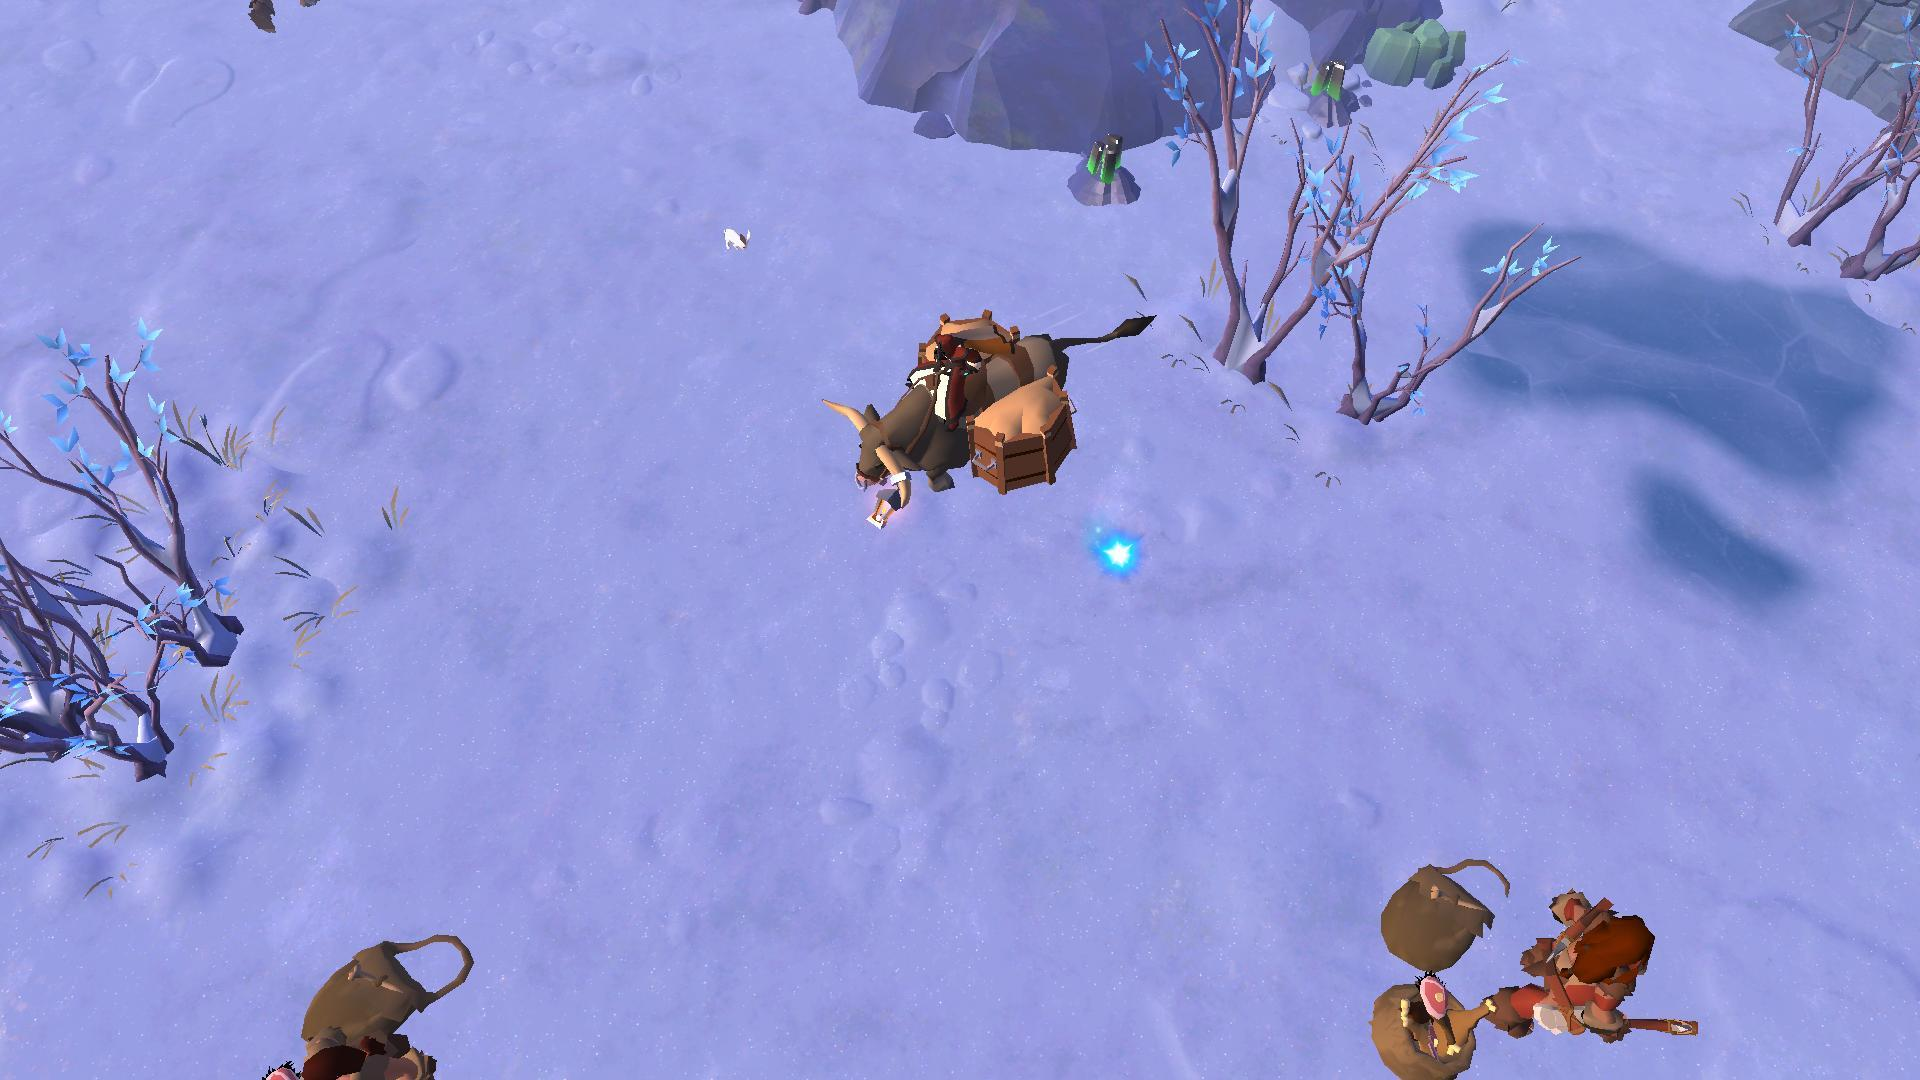enemy_factionKeeper: (1503, 898, 1697, 1051)
ore_t3: (1073, 129, 1129, 194), (1302, 53, 1350, 115)
rock_t3: (1357, 12, 1481, 98)
